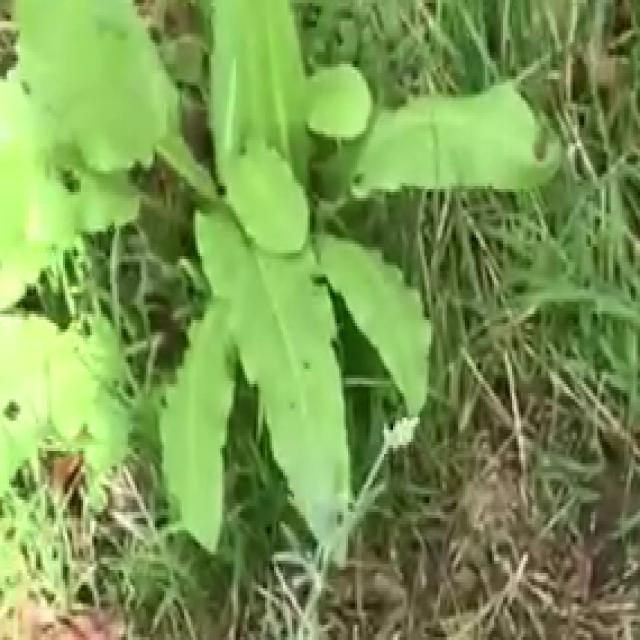organic waste: (0, 0, 575, 567)
